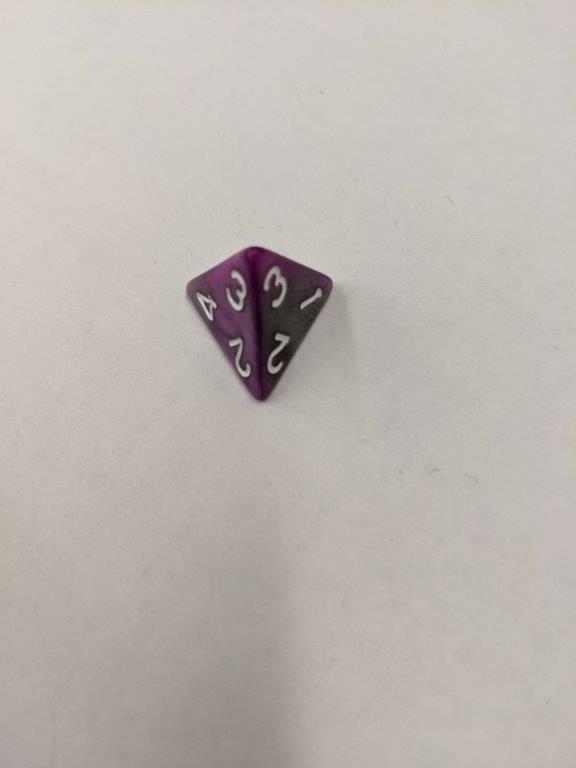d4-3: (181, 243, 336, 404)
